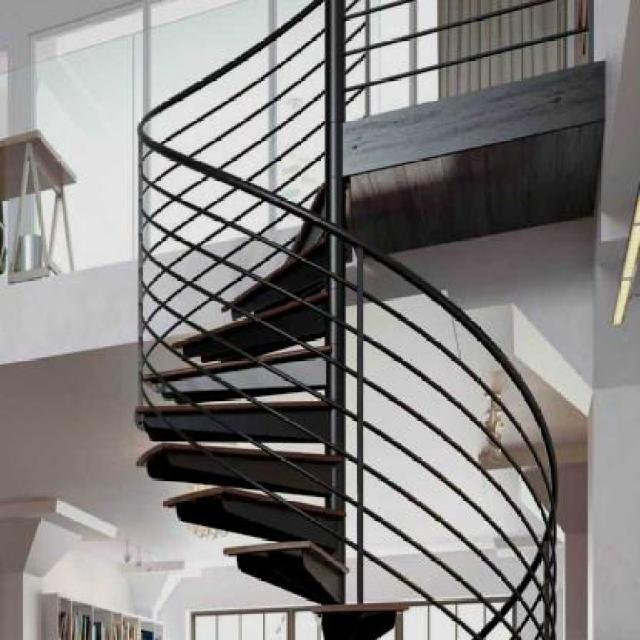stair: (118, 0, 607, 638)
